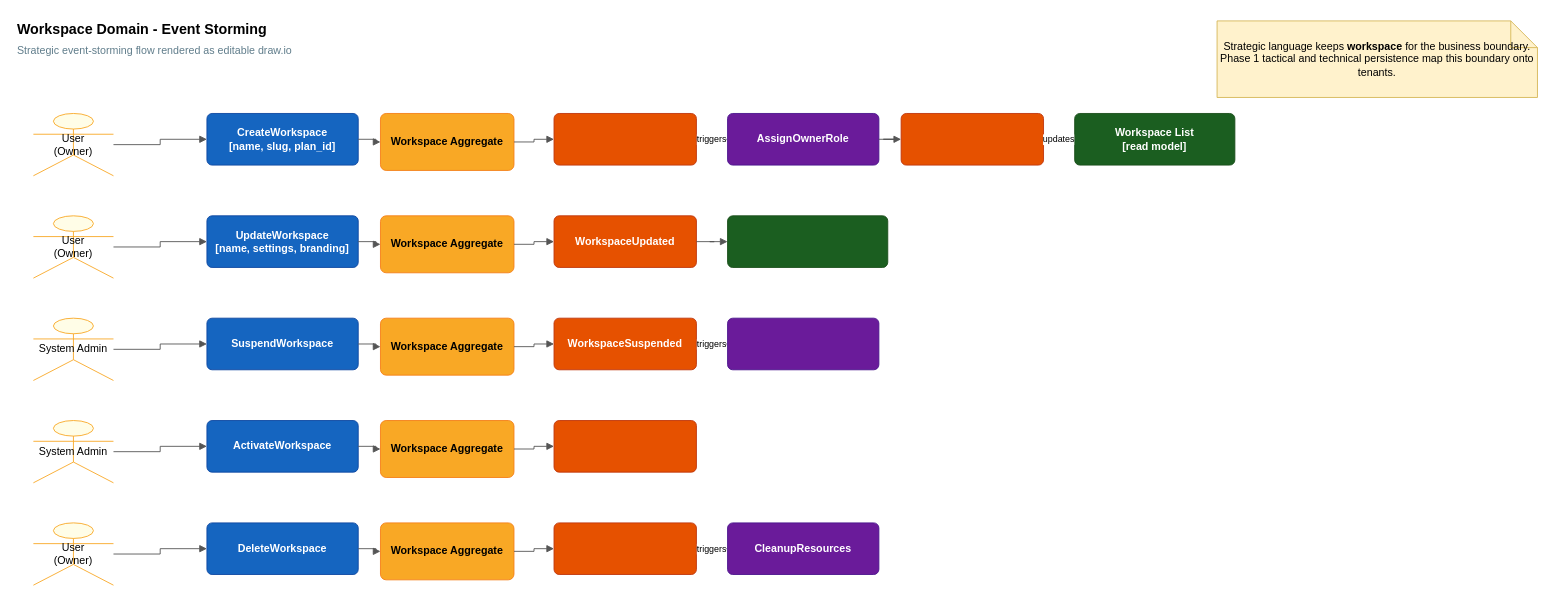
Some shapes in this 1553 by 601 pixel diagram are drawn without their labels. The shapes that lost their labels are listed below. From the top down, each one's box as (x1, y1, x2, y2) in pixels, then its label:
(553, 113, 696, 165): WorkspaceCreated
(900, 113, 1044, 165): RoleAssigned (owner)
(727, 215, 888, 267): Workspace Detail [read model]
(727, 317, 879, 370): NotifyMembers
(553, 420, 696, 472): WorkspaceActivated
(553, 522, 696, 574): WorkspaceDeleted
